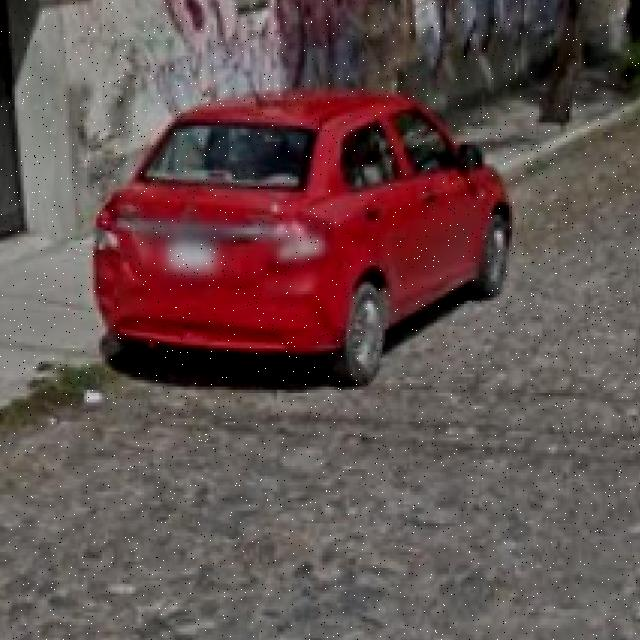car: (85, 76, 509, 396)
